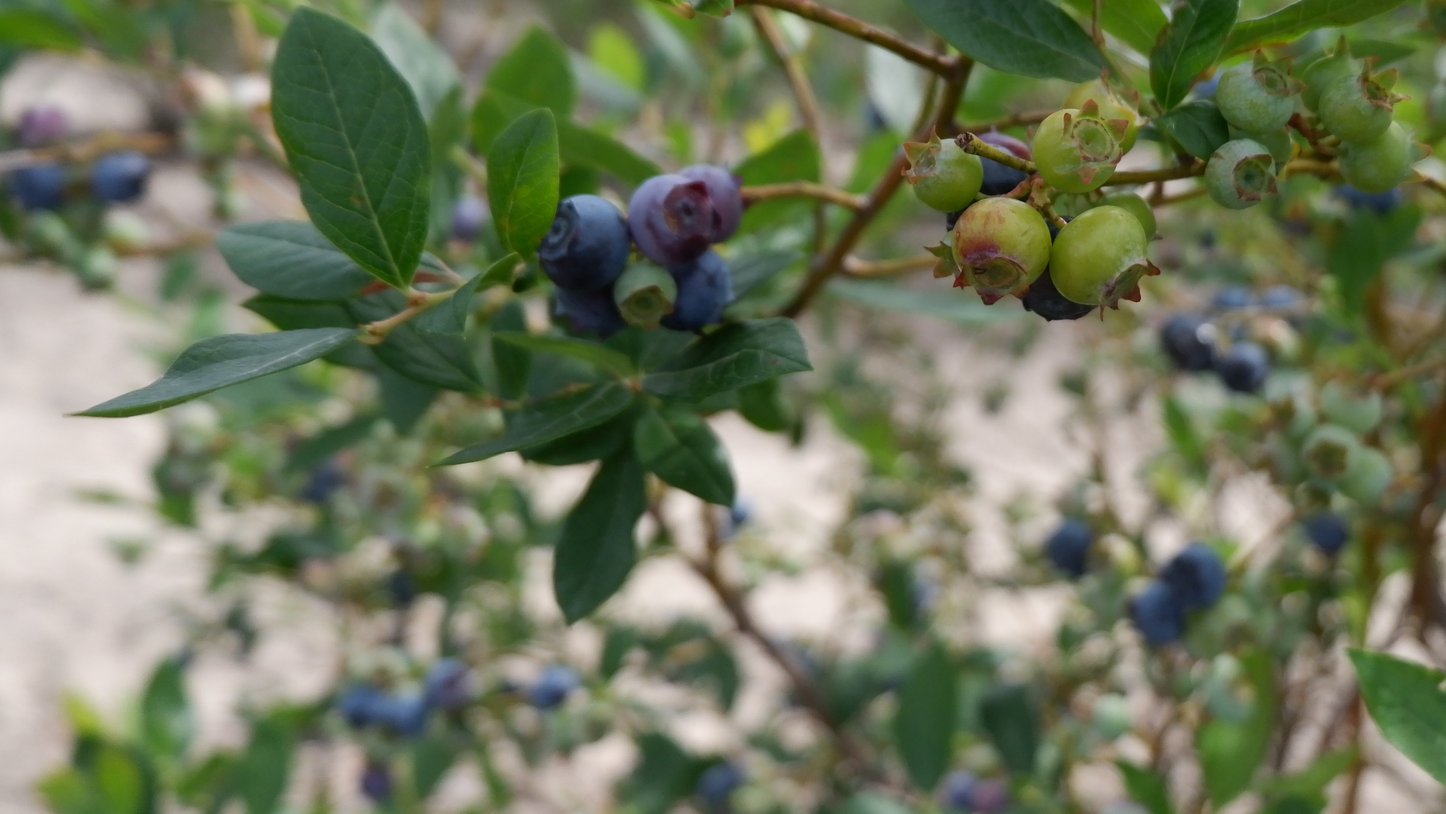Immature: (952, 199, 1049, 300), (1052, 209, 1150, 306), (1319, 55, 1412, 145), (1036, 101, 1126, 190), (1215, 48, 1307, 134), (1339, 121, 1434, 196), (903, 126, 984, 212), (1064, 71, 1138, 152), (1298, 35, 1365, 112), (1207, 140, 1276, 208), (615, 256, 675, 322), (1226, 122, 1290, 174), (1100, 189, 1156, 241), (976, 132, 1033, 163), (925, 230, 954, 278)
Mature: (631, 175, 724, 267), (542, 197, 628, 289), (680, 163, 757, 244), (666, 250, 734, 329), (554, 283, 618, 338), (1025, 268, 1094, 319), (974, 143, 1027, 196)
